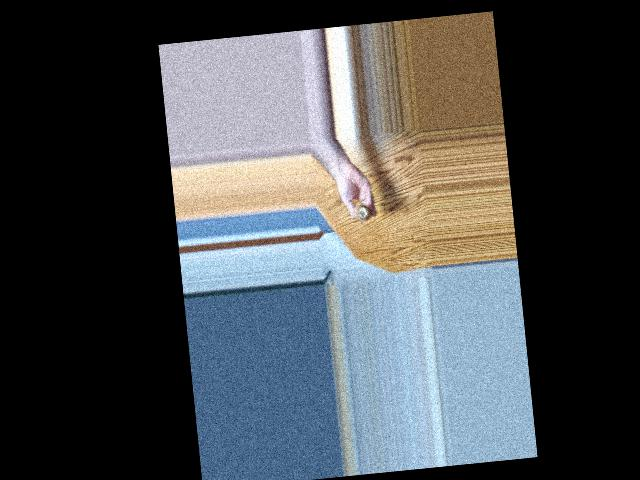sweet_potato: (351, 203, 369, 226)
